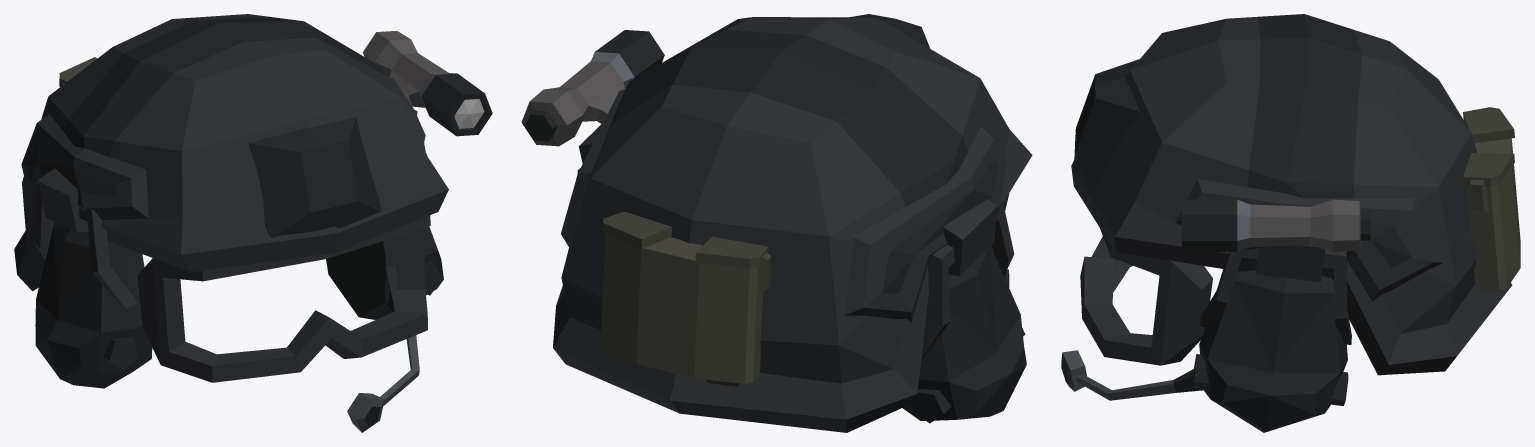
The model's file is SM_Chr_Attach_Helmet_07.fbx.
The picture shows the model from 3 angles, left to right: view 1: azimuth 30°, elevation 25°; view 2: azimuth 150°, elevation 25°; view 3: azimuth 270°, elevation 25°; orthographic projection. The views are drawn at different scales.
Visible parts, largest first — view 1: SM_Chr_Attach_Helmet_07; view 2: SM_Chr_Attach_Helmet_07; view 3: SM_Chr_Attach_Helmet_07.
Part boxes in pixels (box(x1,y1,x2,y2)): SM_Chr_Attach_Helmet_07: box(14, 14, 492, 432); SM_Chr_Attach_Helmet_07: box(521, 14, 1032, 432); SM_Chr_Attach_Helmet_07: box(1061, 14, 1520, 432).
Bounding box in the file's own units: 35.87 × 28.08 × 34.75.
